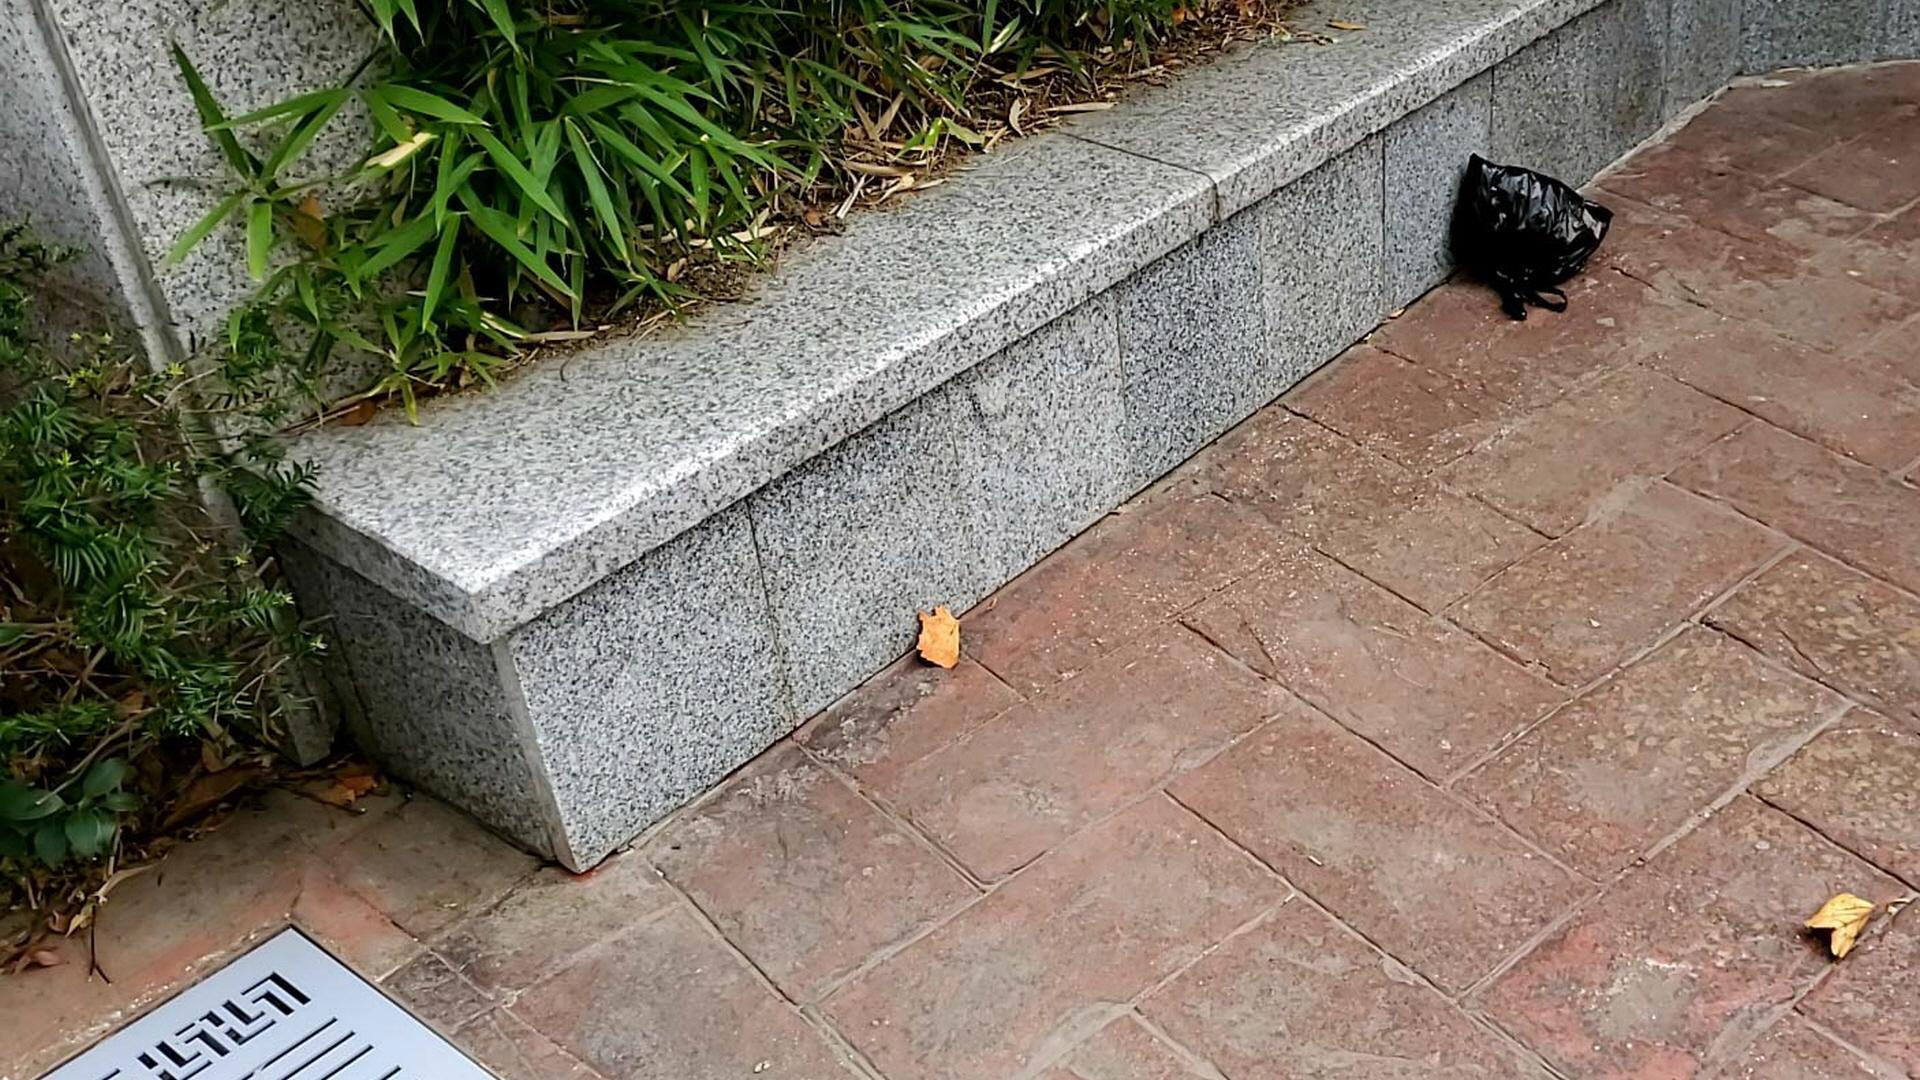black_bag: (1441, 146, 1623, 328)
